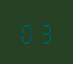three: (36, 20, 52, 43)
zero: (19, 20, 35, 44)
